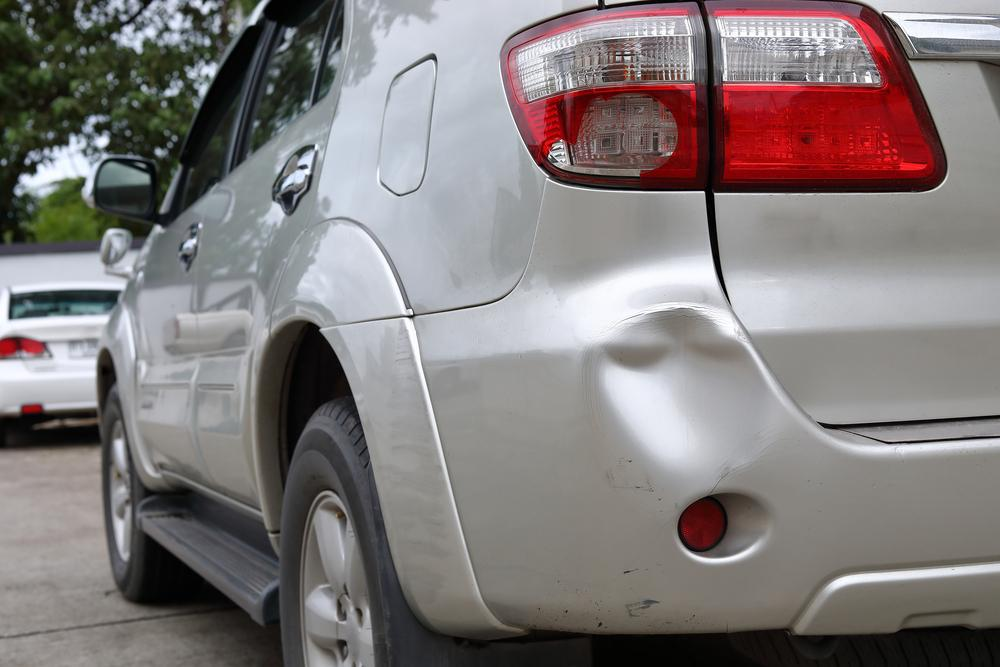dent: (592, 305, 771, 479)
lamp broken: (501, 0, 714, 192)
